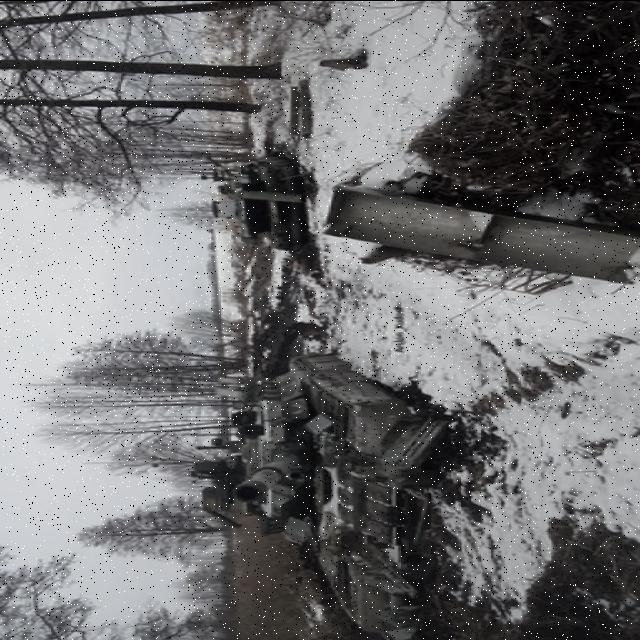TANK: (197, 354, 453, 640), (202, 151, 316, 251)
